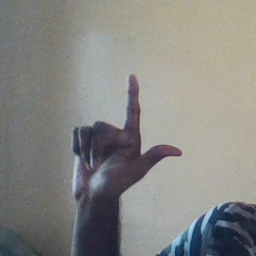L: (69, 73, 186, 202)
